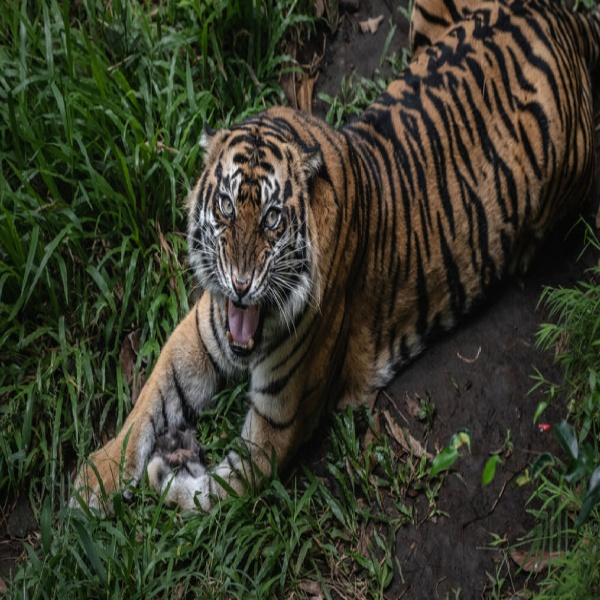Tiger: (60, 3, 600, 519)
